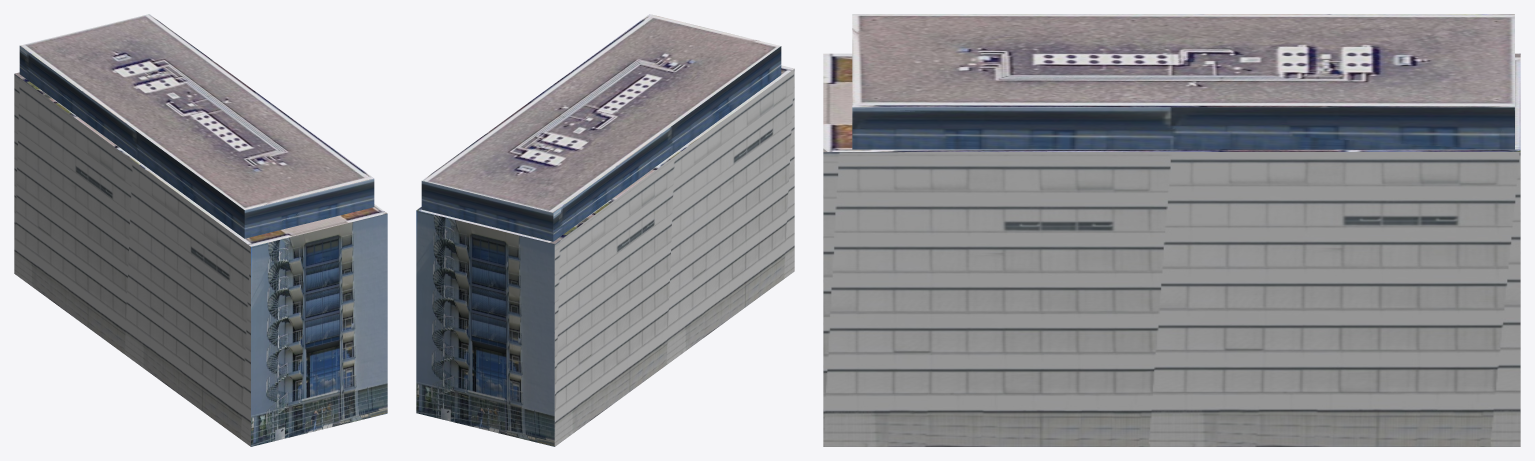
The model's file is KoPf_Altana_Lilienthalstr_9_lod3.dae.
3 views of the same model, side by side, from view 1: azimuth 30°, elevation 25°; view 2: azimuth 150°, elevation 25°; view 3: azimuth 270°, elevation 25° (orthographic). The views are drawn at different scales.
Visible parts, largest first — view 1: SketchUp (×5); view 2: SketchUp (×5); view 3: SketchUp (×4).
Part boxes in pixels (x1=…): SketchUp (×5): x1=14, y1=14, x2=387, y2=446; SketchUp (×5): x1=416, y1=14, x2=794, y2=446; SketchUp (×4): x1=823, y1=14, x2=1520, y2=446.
Bounding box in the file's own units: 787 × 2362 × 1260.
8 materials, 7 textured.
